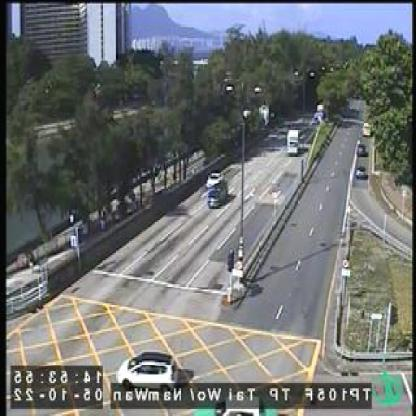Car: (118, 353, 177, 386), (209, 182, 230, 208), (206, 170, 222, 189), (358, 164, 366, 176), (358, 144, 366, 156)
Truck: (289, 128, 303, 154)
